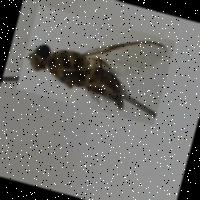Oriental-fruit-fly: (16, 5, 176, 125)
